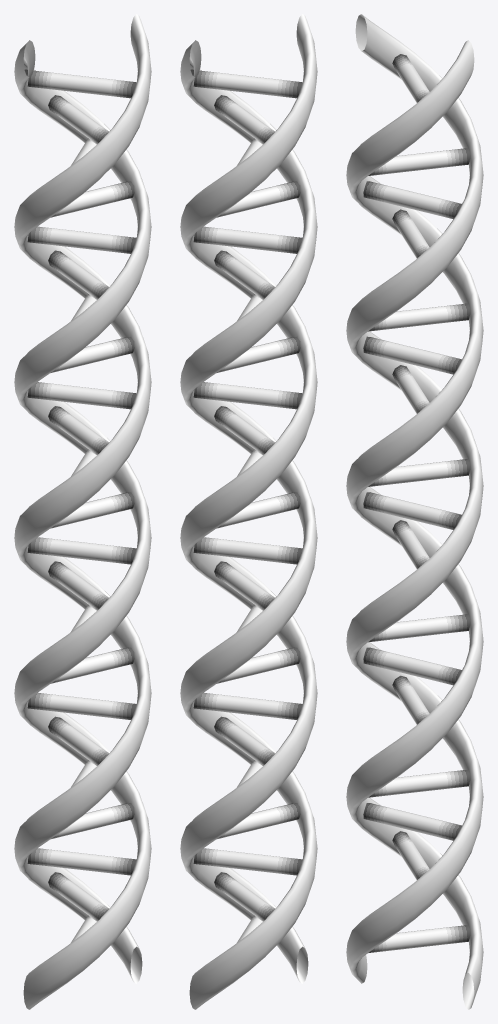
Rendered from dna.fbx.
The picture shows the model from 3 angles, left to right: view 1: azimuth 30°, elevation 25°; view 2: azimuth 210°, elevation 25°; view 3: azimuth 330°, elevation 25°; orthographic projection.
Parts seen in each view (by area): view 1: pHelix6, pCylinder24; view 2: pHelix6, pCylinder24; view 3: pHelix6, pCylinder24.
Part boxes in pixels (box(x1,y1,x2,y2)): pHelix6: box(14, 14, 151, 1009); pCylinder24: box(24, 69, 136, 942); pHelix6: box(180, 14, 317, 1009); pCylinder24: box(190, 69, 302, 942); pHelix6: box(346, 14, 483, 1009); pCylinder24: box(363, 54, 470, 952).
Size of the model in its own units: 0.4 by 3.12 by 0.4.
